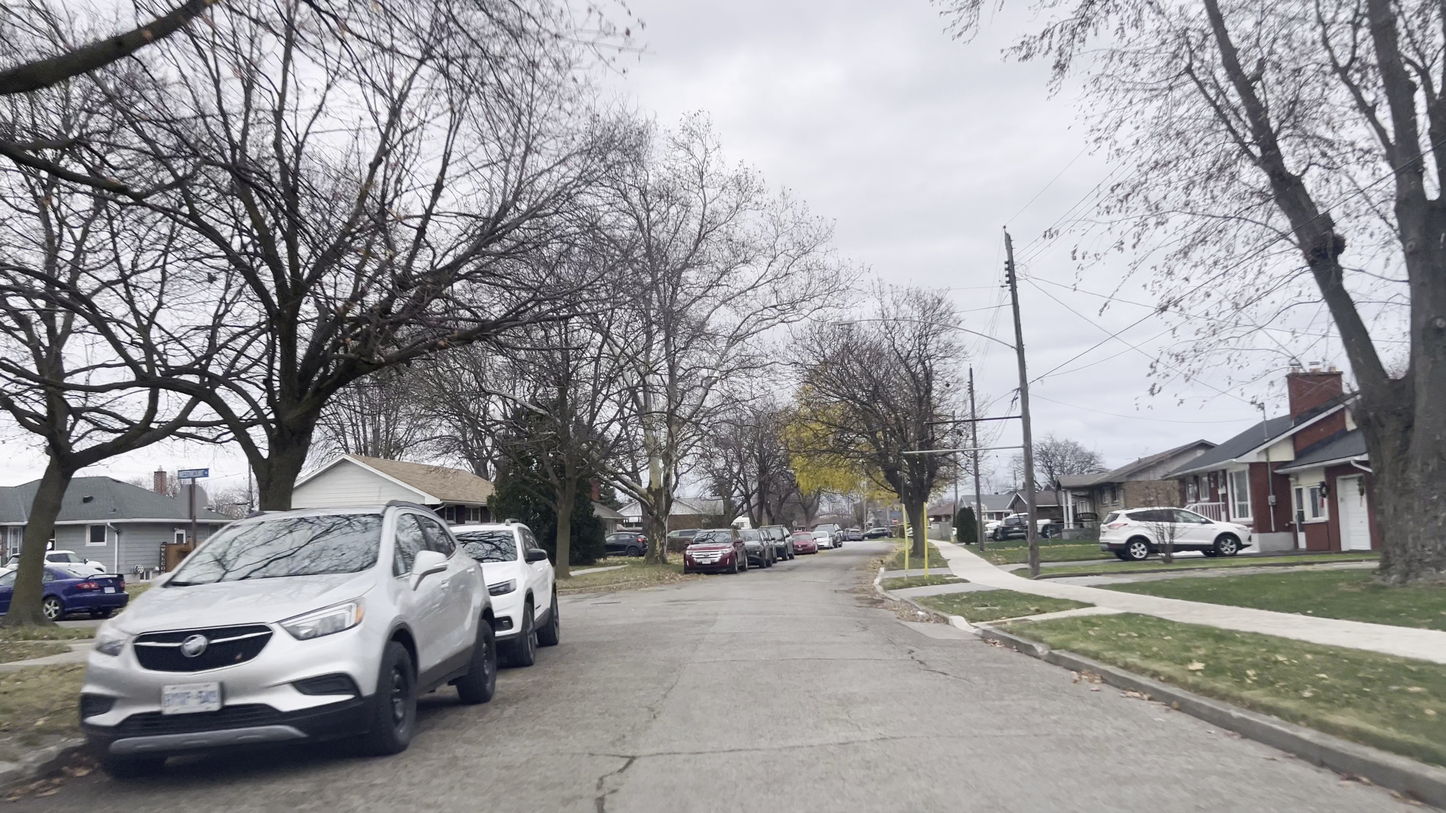cracks: (584, 747, 642, 810)
